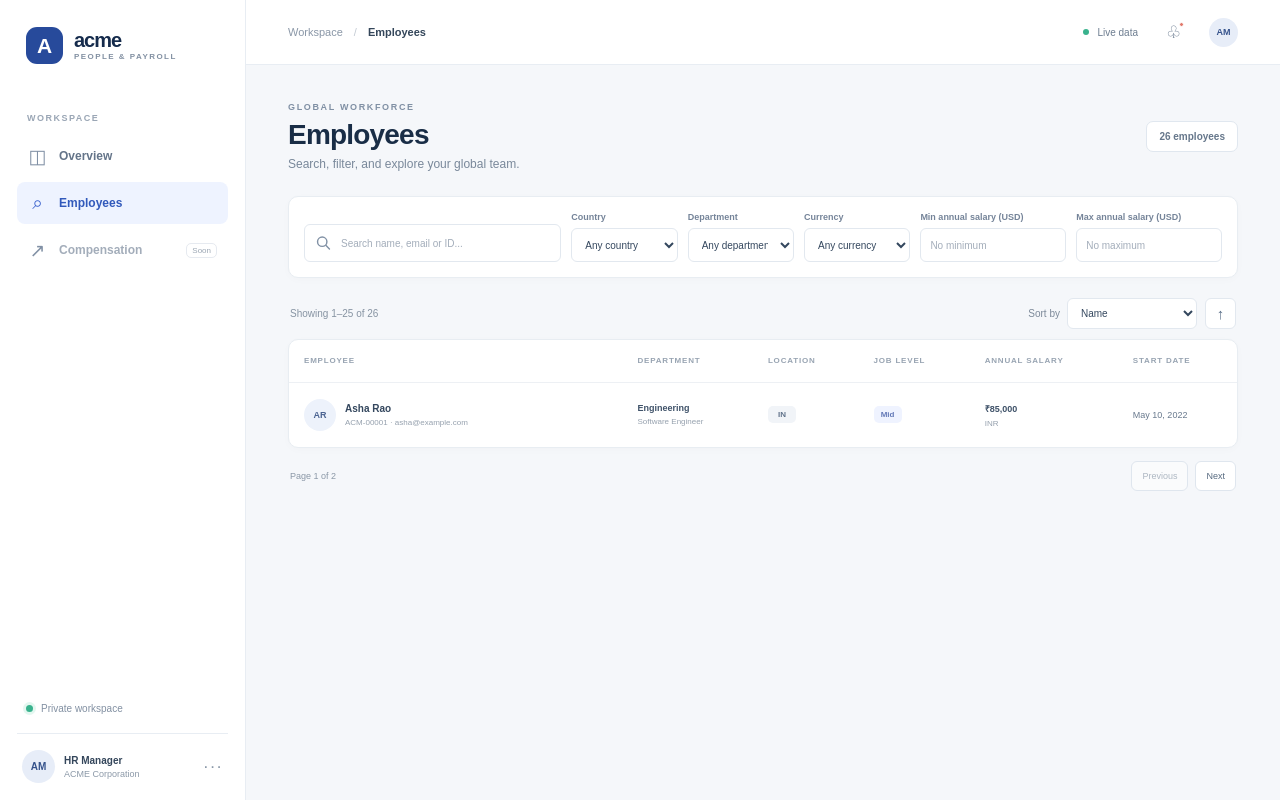
Scenario: employee directory › requests the next page and updates result counts
The image size is (1280, 800).
Expected: the link "Asha Rao" is shown, [345, 403, 391, 414]
Expected: the button "Previous" is disabled, [1132, 461, 1188, 491]
Click the button "Next": [1216, 476] box [1196, 461, 1236, 491]
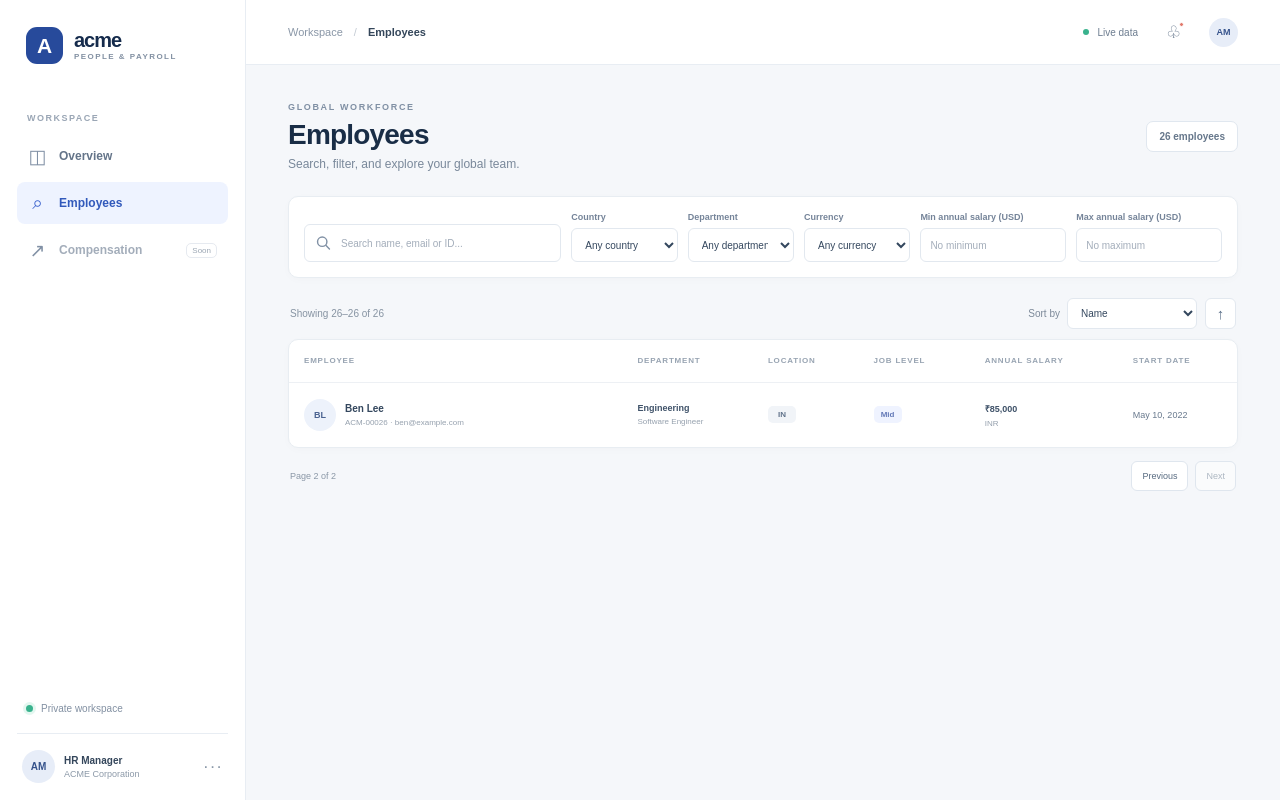
Now the link "Ben Lee" is shown, box [345, 403, 384, 414]
Now the text "Page 2 of 2" is shown, box [290, 471, 336, 481]
Now the button "Next" is disabled, box [1196, 461, 1236, 491]
